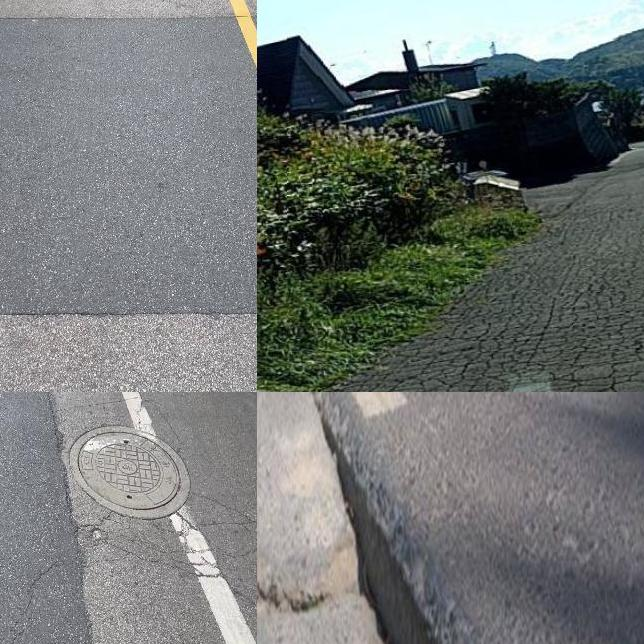Lubang: (72, 425, 193, 514)
Retak Buaya: (349, 217, 644, 392)
Sambungan: (0, 15, 257, 324), (257, 392, 451, 644), (0, 392, 96, 644)
